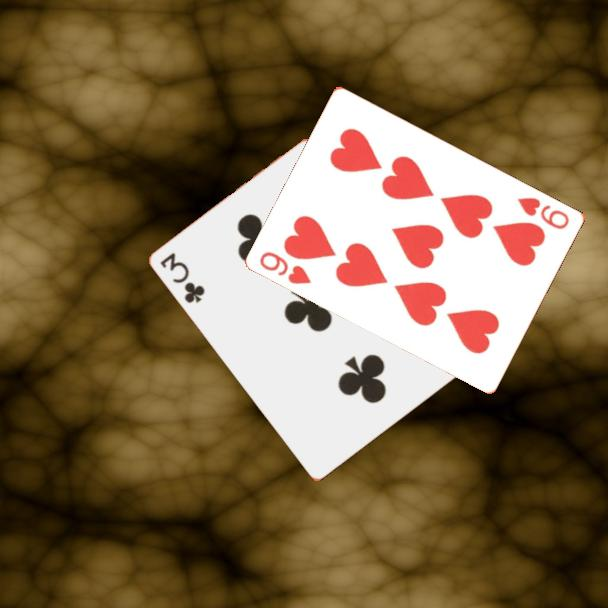c03: (157, 249, 208, 306)
h09: (256, 248, 315, 287), (514, 194, 572, 232)
